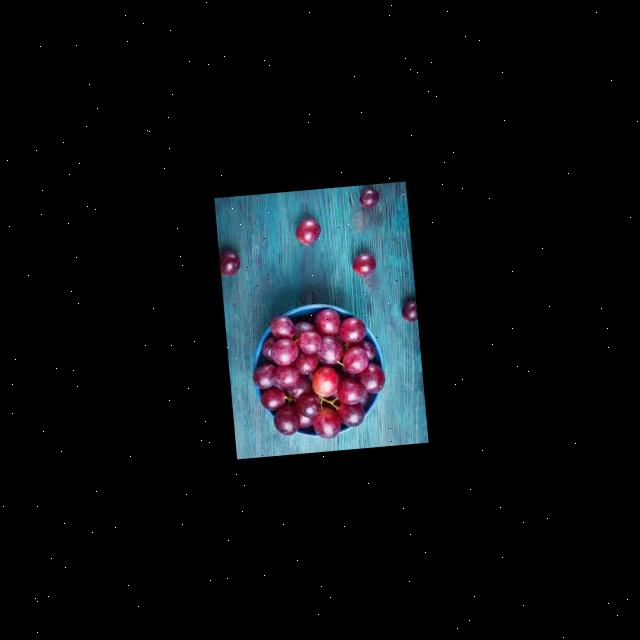grape: (245, 304, 387, 445), (218, 250, 238, 277)
